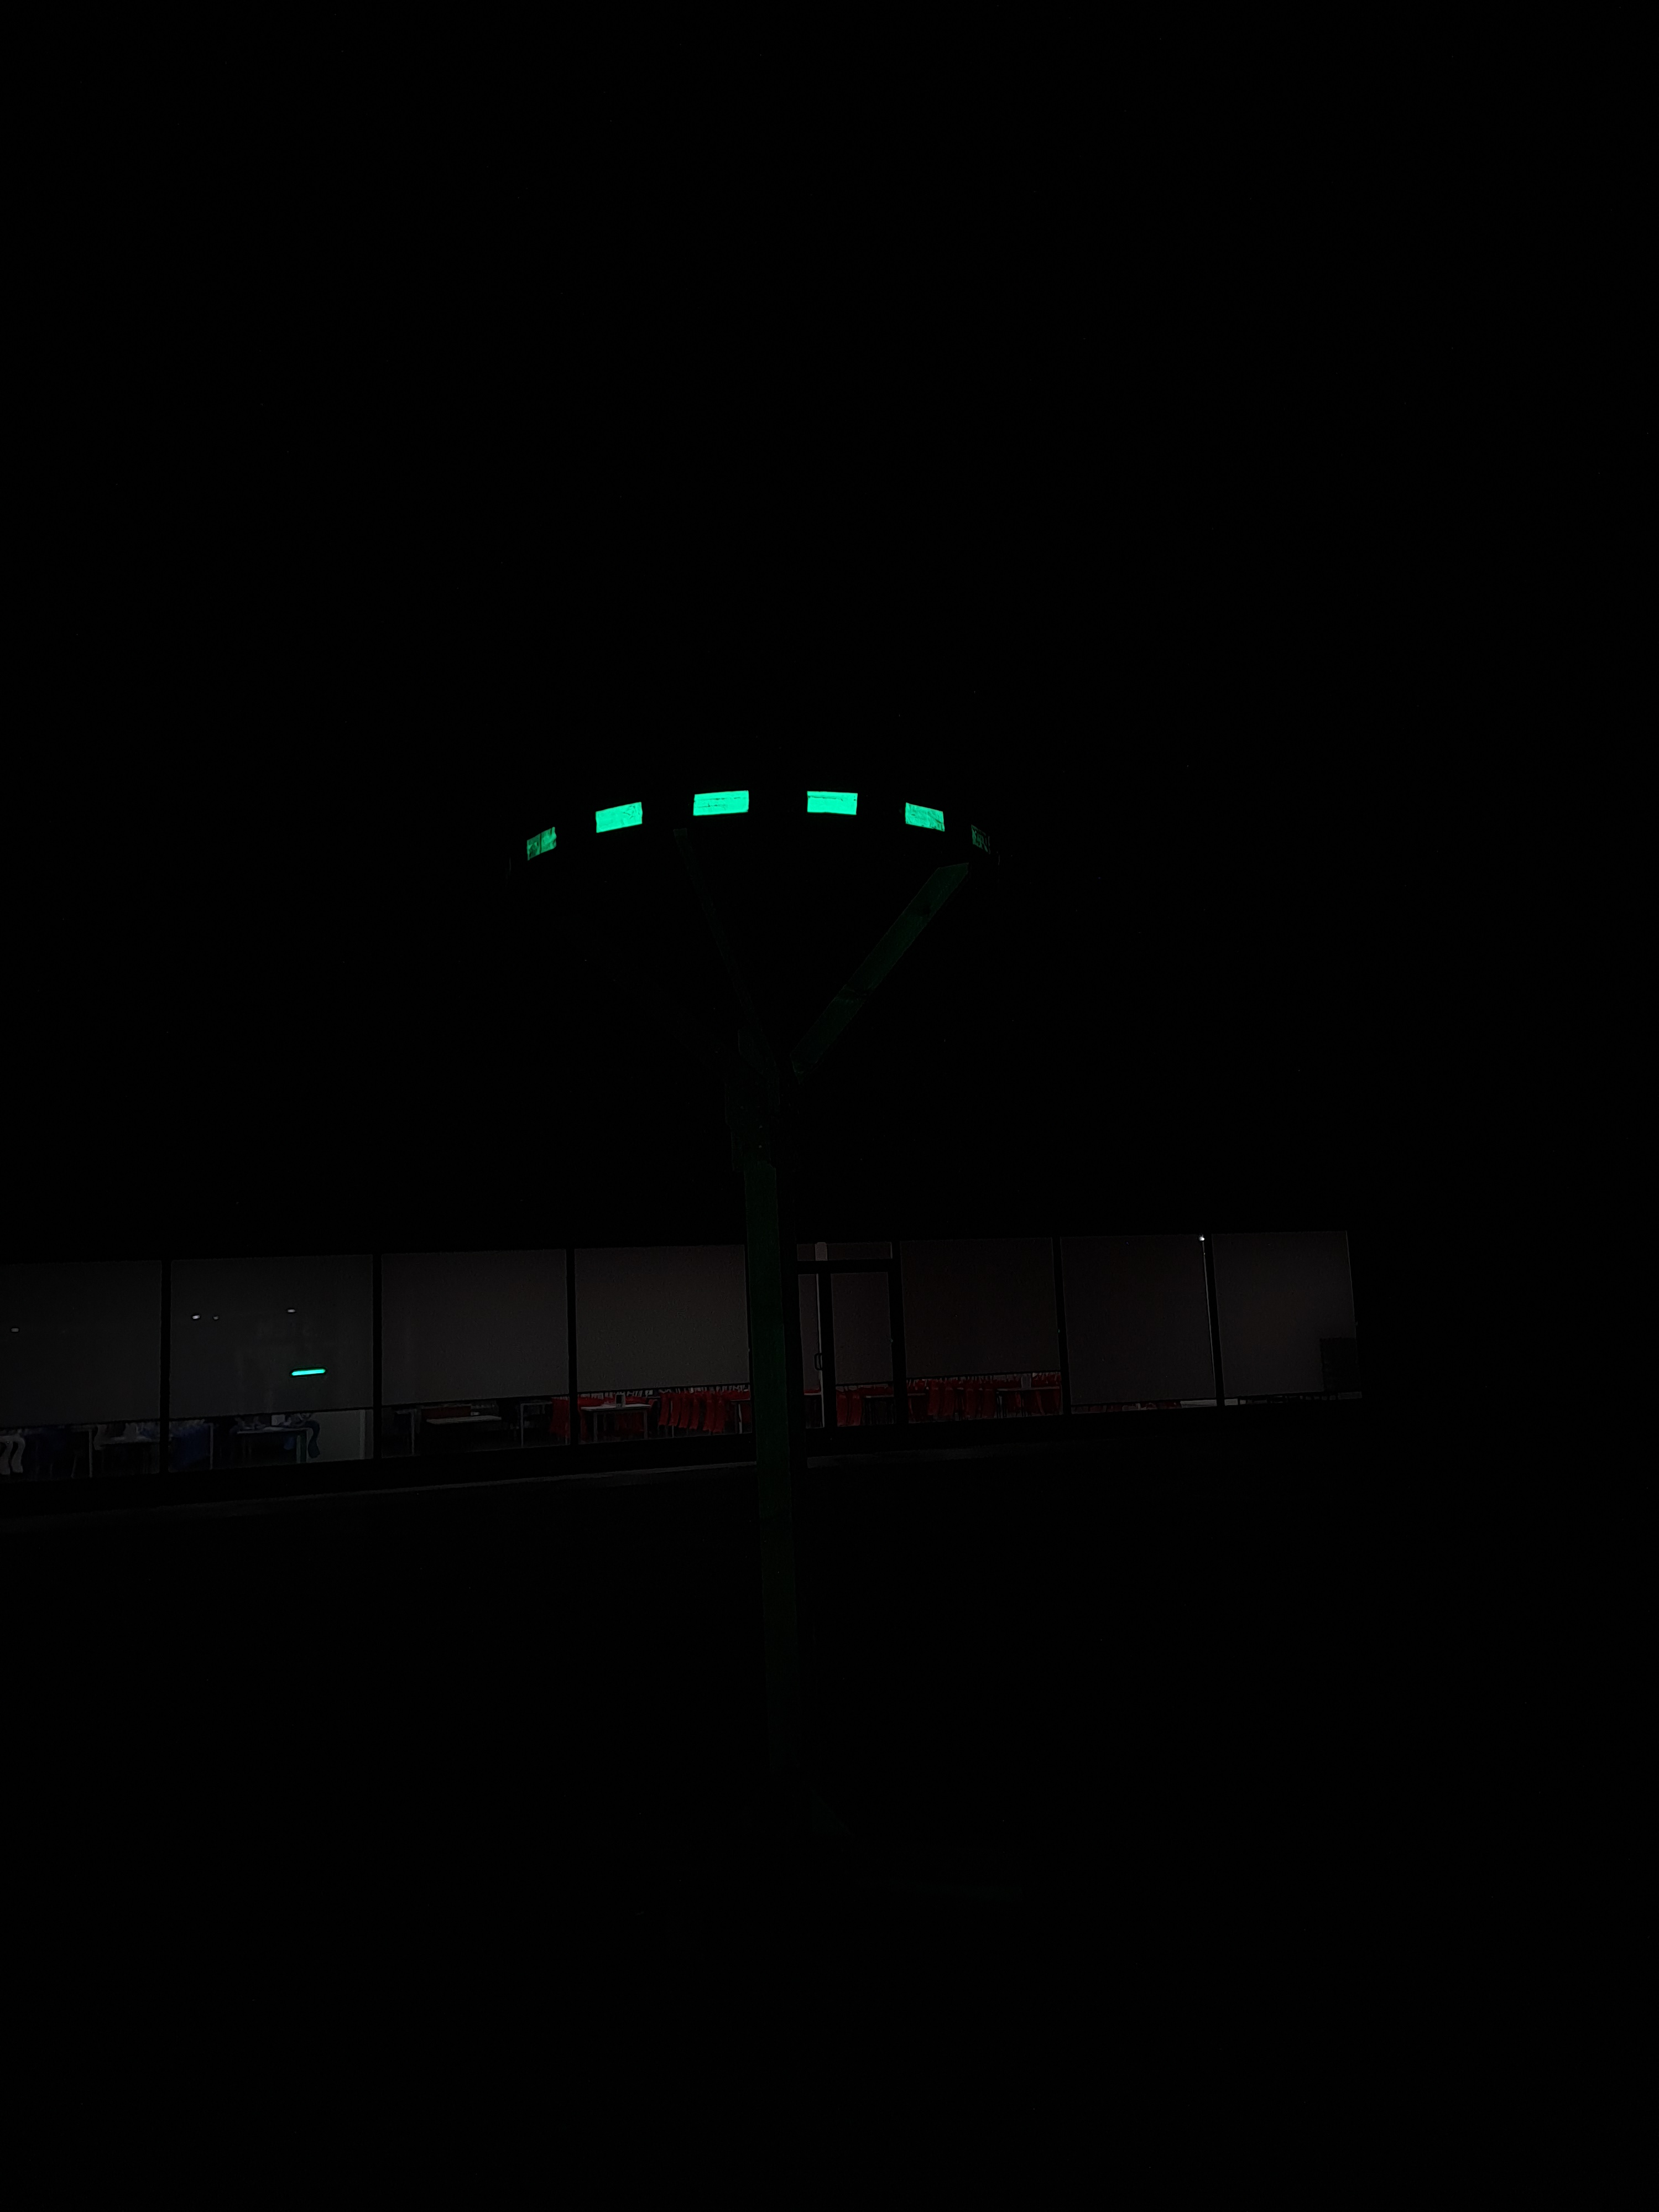hoop: (519, 789, 951, 866)
